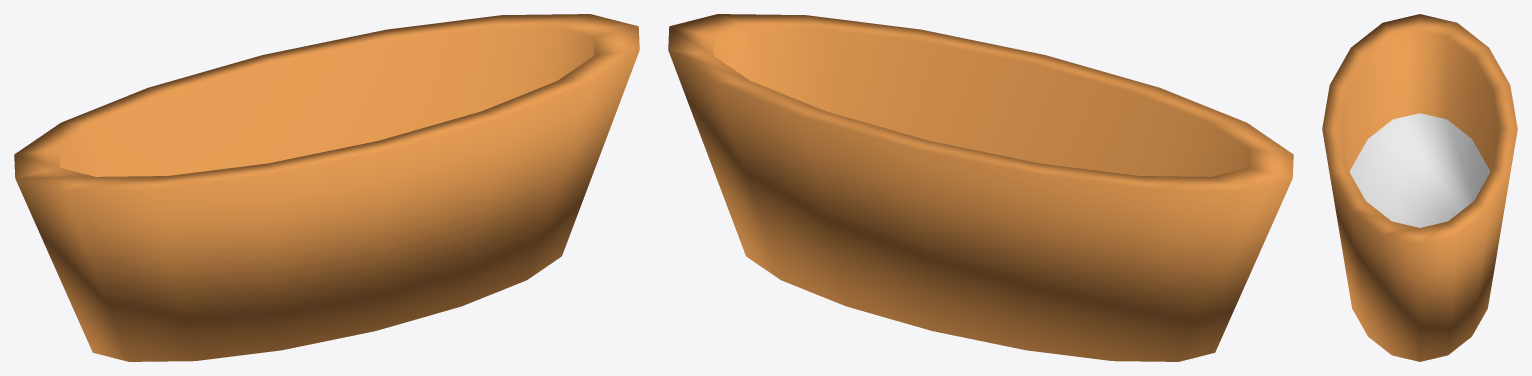
File: DrinkingThrough.fbx
The picture shows the model from 3 angles, left to right: view 1: azimuth 30°, elevation 25°; view 2: azimuth 150°, elevation 25°; view 3: azimuth 270°, elevation 25°; orthographic projection. The views are drawn at different scales.
Visible parts, largest first — view 1: Cylinder.015; view 2: Cylinder.015; view 3: Cylinder.015.
Part boxes in pixels (x1,y1,x2,y2): Cylinder.015: [14, 14, 639, 361]; Cylinder.015: [668, 14, 1293, 361]; Cylinder.015: [1322, 14, 1517, 361].
Bounding box in the file's own units: 238 × 70.4 × 85.3.
